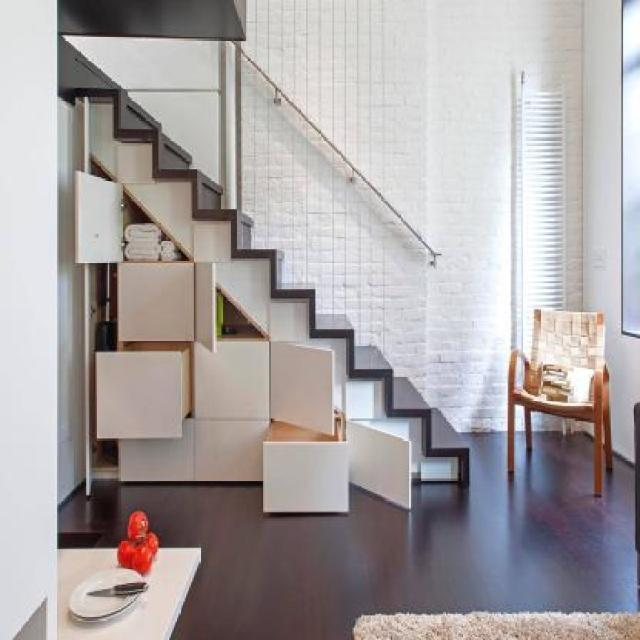stair: (59, 48, 476, 510)
